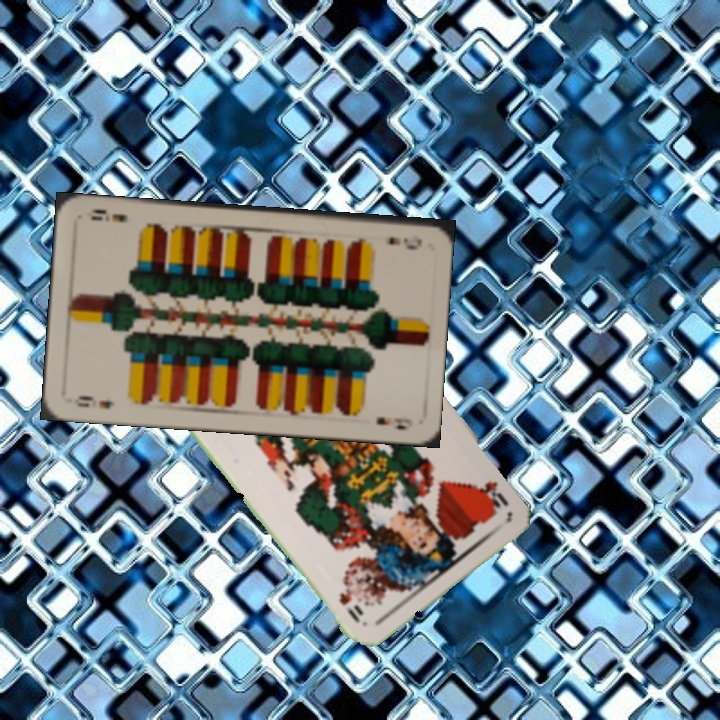E9: (73, 391, 116, 411), (384, 232, 425, 251)
HO: (470, 477, 511, 516)
